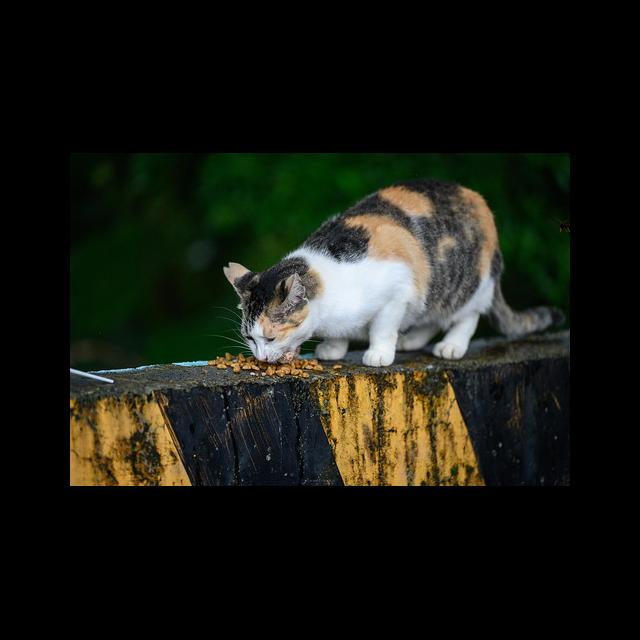animals: (223, 185, 565, 368)
